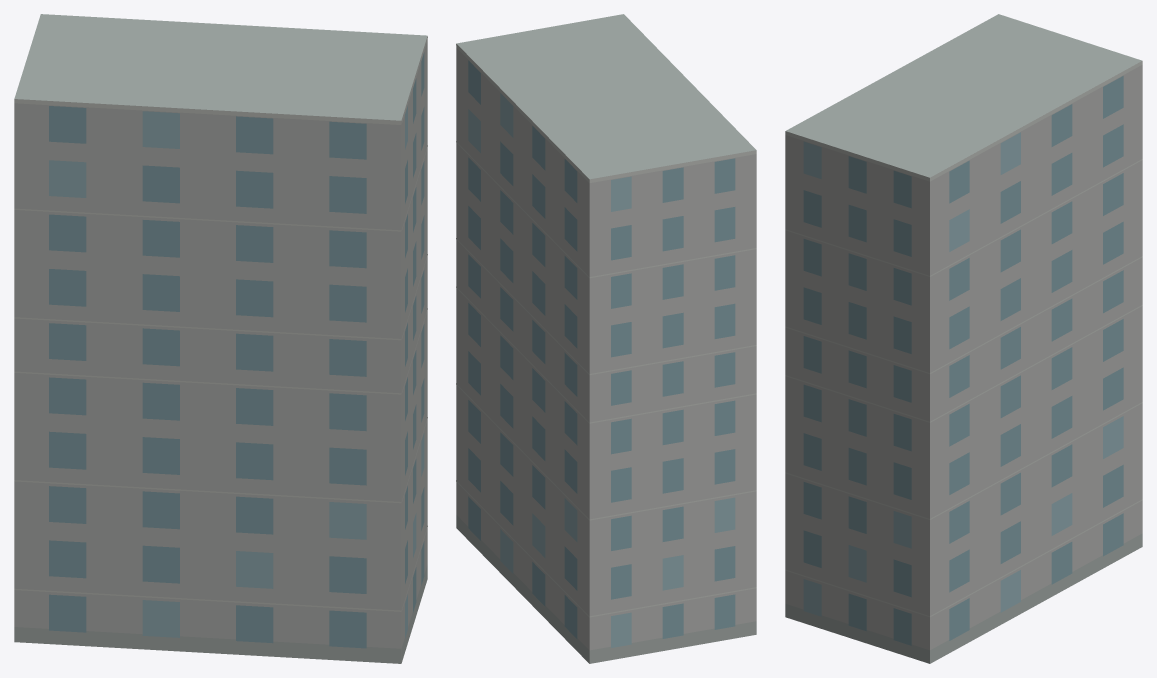
File: survey-upis-32699971.glb
The picture shows the model from 3 angles, left to right: view 1: azimuth 30°, elevation 25°; view 2: azimuth 150°, elevation 25°; view 3: azimuth 270°, elevation 25°; orthographic projection. The views are drawn at different scales.
Parts seen in each view (by area): view 1: survey-upis-32699971.tmp; view 2: survey-upis-32699971.tmp; view 3: survey-upis-32699971.tmp.
Part boxes in pixels (bbox=[...]): survey-upis-32699971.tmp: bbox=[14, 14, 427, 663]; survey-upis-32699971.tmp: bbox=[456, 14, 756, 663]; survey-upis-32699971.tmp: bbox=[785, 14, 1142, 663].
Size of the model in its own units: 22.06 by 30.5 by 20.33.
